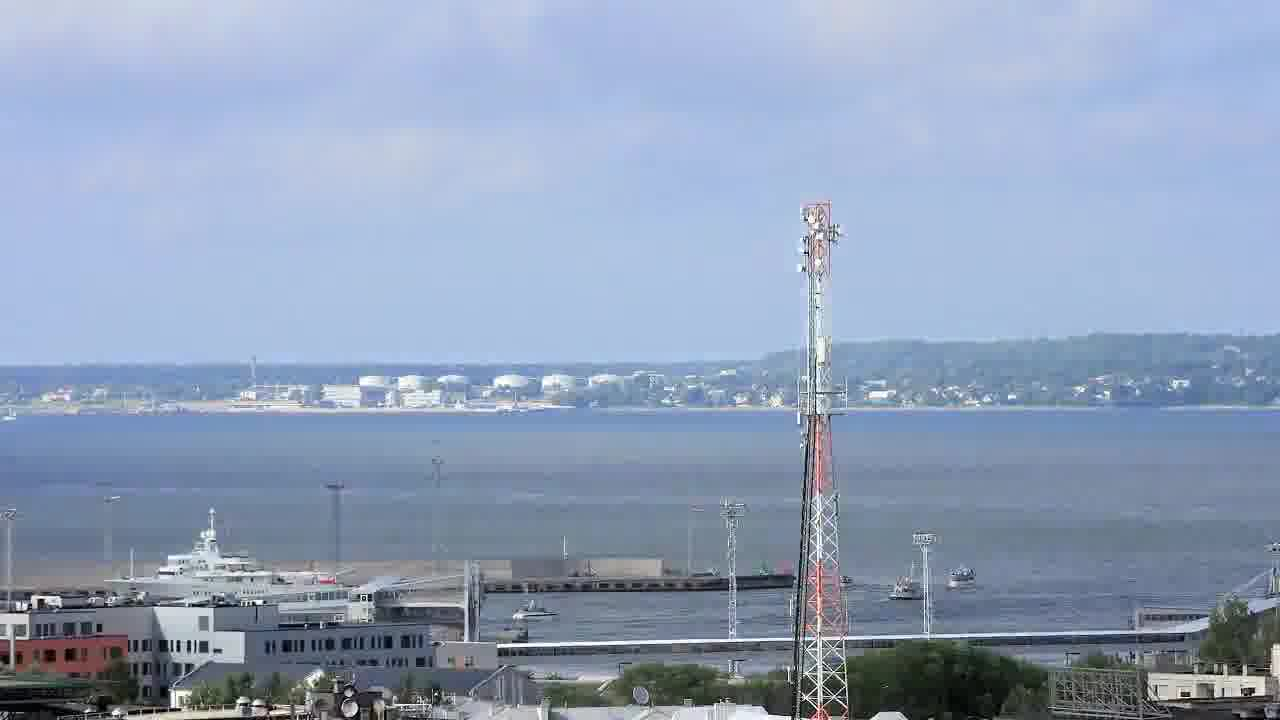type-0: (891, 562, 928, 608)
type-1: (502, 591, 562, 631), (945, 561, 983, 597)
